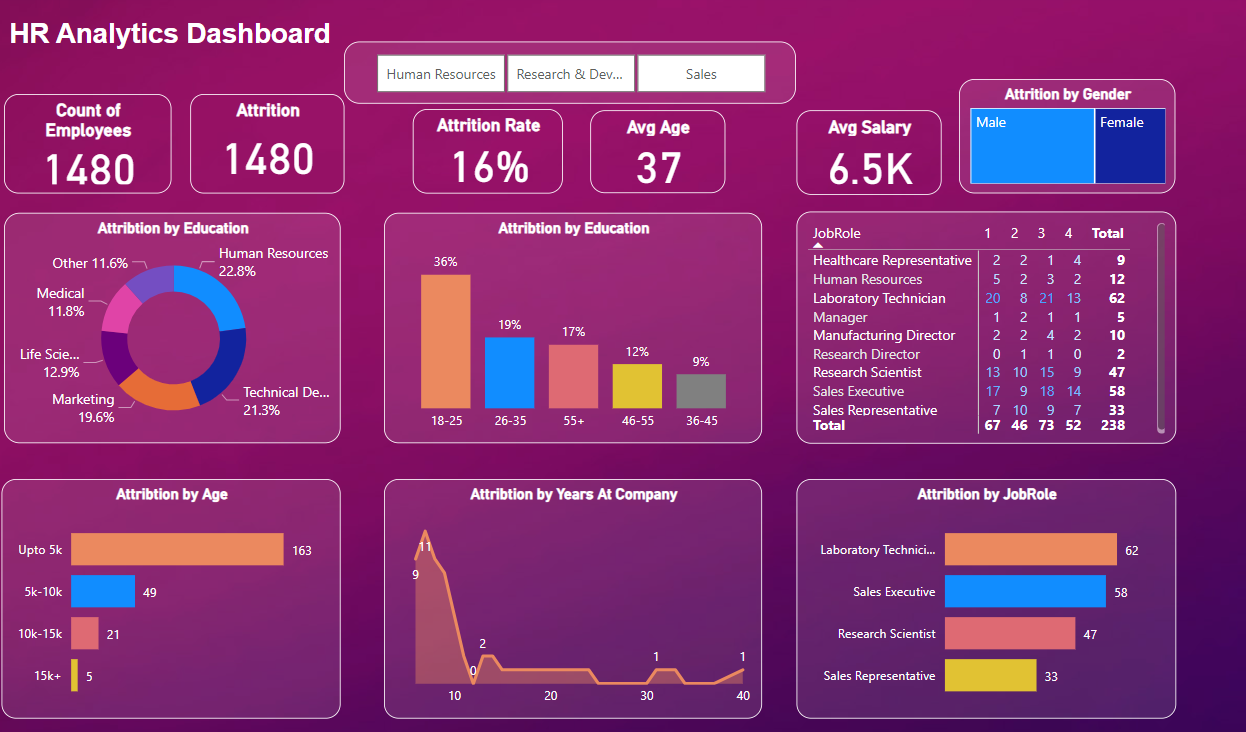

The dashboard page shown, as its layout file describes it:
{"tool":"powerbi","page":{"name":"Page 1","canvas":[1280,720],"ordinal":0},"visuals":[{"type":"card","title":"Count of Employees","fields":{"Values":["CountNonNull(HR_Analytics.EmpID)"]},"box":[10,96.2,161.2,96.2],"z":0},{"type":"card","title":"Attrition","fields":{"Values":["CountNonNull(HR_Analytics.AttritionCount)"]},"box":[188.8,96.2,148.8,96.2],"z":1000},{"type":"card","title":"Attrition Rate","fields":{"Values":["HR_Analytics.attribtionRate"]},"box":[403.8,111.2,145,81.2],"z":2000},{"type":"card","title":"Avg Age","fields":{"Values":["Avg(HR_Analytics.Age)"]},"box":[575,112.5,130,80],"z":3000},{"type":"card","title":"Avg Salary","fields":{"Values":["Avg(HR_Analytics.MonthlyIncome)"]},"box":[773.8,112.5,140,81.2],"z":4000},{"type":"donutChart","title":"Attribtion by Education","fields":{"Y":["HR_Analytics.attribtionRate"],"Category":["HR_Analytics.EducationField"]},"box":[10,211.2,325,222.5],"z":5000},{"type":"clusteredColumnChart","title":"Attribtion by Education","fields":{"Y":["HR_Analytics.attribtionRate"],"Category":["HR_Analytics.AgeGroup"]},"box":[376.2,211.2,365,222.5],"z":6000},{"type":"pivotTable","fields":{"Values":["Sum(HR_Analytics.AttritionCount)"],"Columns":["HR_Analytics.JobSatisfaction"],"Rows":["HR_Analytics.JobRole"]},"box":[773.8,210,366.2,223.8],"z":7000},{"type":"barChart","title":"Attribtion by Age","fields":{"Category":["HR_Analytics.SalarySlab"],"Y":["Sum(HR_Analytics.AttritionCount)"]},"box":[7.5,467.5,327.5,231.2],"z":8000},{"type":"barChart","title":"Attribtion by JobRole","fields":{"Y":["Sum(HR_Analytics.AttritionCount)"],"Category":["HR_Analytics.JobRole"]},"box":[773.8,467.5,366.2,231.2],"z":9000},{"type":"areaChart","title":"Attribtion by Years At Company","fields":{"Y":["Sum(HR_Analytics.AttritionCount)"],"Category":["HR_Analytics.YearsAtCompany"]},"box":[376.2,467.5,365,231.2],"z":10000},{"type":"treemap","title":"Attrition by Gender","fields":{"Group":["HR_Analytics.Gender"],"Values":["Sum(HR_Analytics.AttritionCount)"]},"box":[931.2,82.5,208.8,110],"z":11000},{"type":"slicer","fields":{"Values":["HR_Analytics.Department"]},"box":[337.5,46.2,436.2,60],"z":12000},{"type":"textbox","box":[10,17.5,327.5,58.8],"z":13000}]}

Visuals, with their boxes in screenshot pixels (x1, y1, x2, y2):
"Count of Employees" card: [81, 99, 230, 188]
"Attrition" card: [246, 99, 384, 188]
"Attrition Rate" card: [445, 113, 580, 188]
"Avg Age" card: [604, 114, 724, 188]
"Avg Salary" card: [788, 114, 918, 189]
"Attribtion by Education" donutChart: [81, 205, 382, 411]
"Attribtion by Education" clusteredColumnChart: [420, 205, 758, 411]
pivotTable - Sum(HR_Analytics.AttritionCount) x HR_Analytics.JobSatisfaction: [788, 204, 1127, 411]
"Attribtion by Age" barChart: [78, 443, 382, 657]
"Attribtion by JobRole" barChart: [788, 443, 1127, 657]
"Attribtion by Years At Company" areaChart: [420, 443, 758, 657]
"Attrition by Gender" treemap: [934, 86, 1127, 188]
slicer - HR_Analytics.Department: [384, 53, 788, 108]
textbox: [81, 26, 384, 80]
